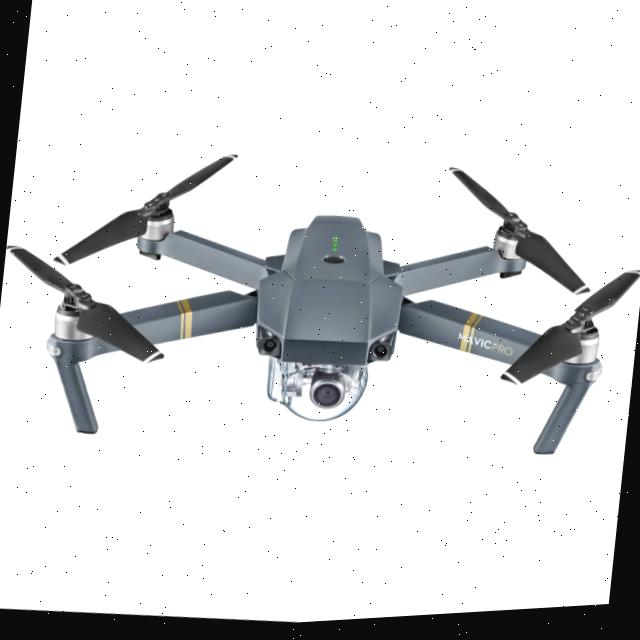drone: (0, 80, 640, 531)
